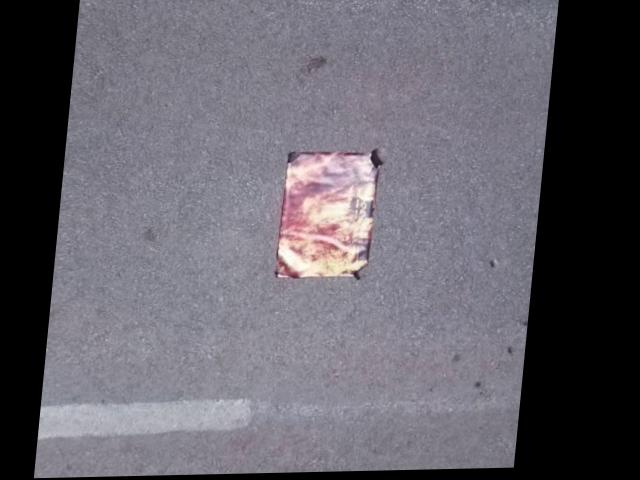fire-poster: (277, 148, 388, 283)
